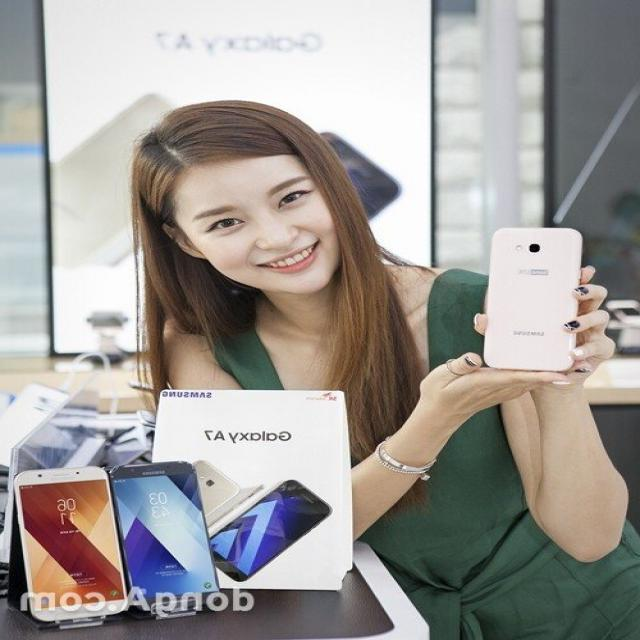mobile: (111, 459, 225, 617), (15, 466, 130, 622), (485, 227, 584, 370)
